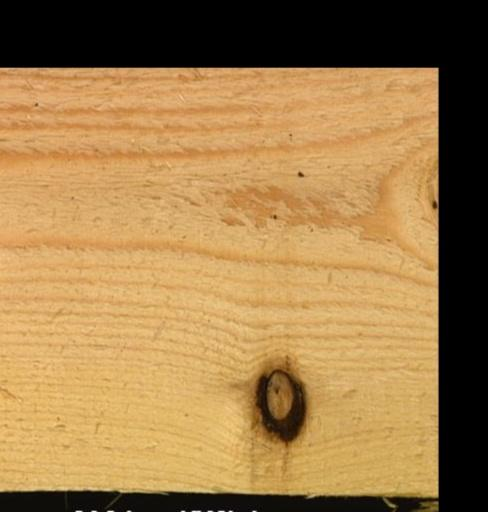small_knot: (428, 197, 437, 211)
